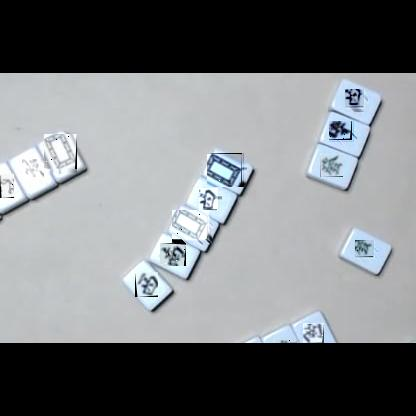2z: (330, 122, 357, 145), (160, 243, 186, 266), (303, 323, 324, 343)
3z: (135, 272, 158, 297), (346, 90, 368, 112), (200, 188, 222, 210)
4z: (23, 160, 44, 183), (0, 174, 14, 198)
5z: (208, 153, 247, 187), (173, 211, 213, 244), (44, 135, 77, 174)
6z: (320, 154, 343, 177), (356, 241, 378, 262), (274, 339, 297, 343)
